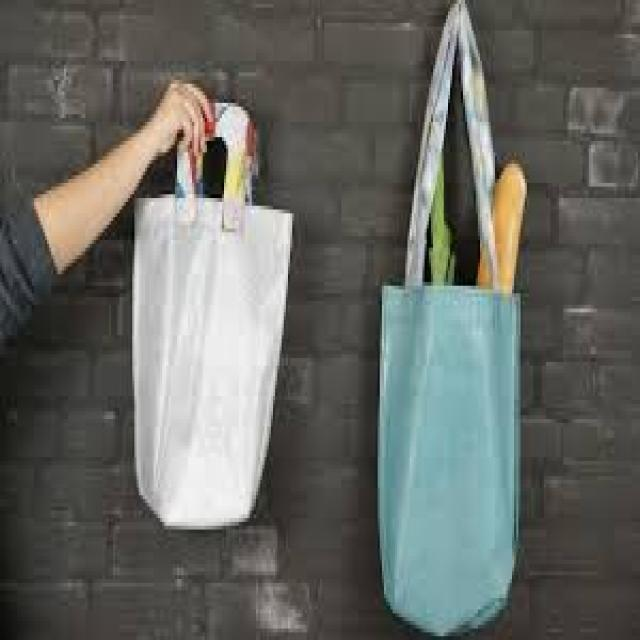organic waste: (471, 156, 525, 286), (427, 145, 454, 282)
